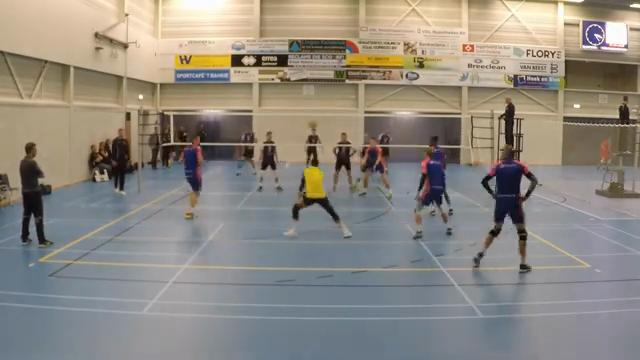Player: (473, 145, 537, 272), (413, 148, 451, 239), (360, 137, 391, 198), (430, 136, 452, 215), (181, 136, 202, 218), (257, 131, 282, 191), (332, 132, 355, 191), (236, 132, 256, 175), (356, 134, 368, 186), (305, 127, 320, 166), (378, 131, 391, 172)
Receive: (278, 154, 354, 239)
ball: (307, 119, 317, 129)
